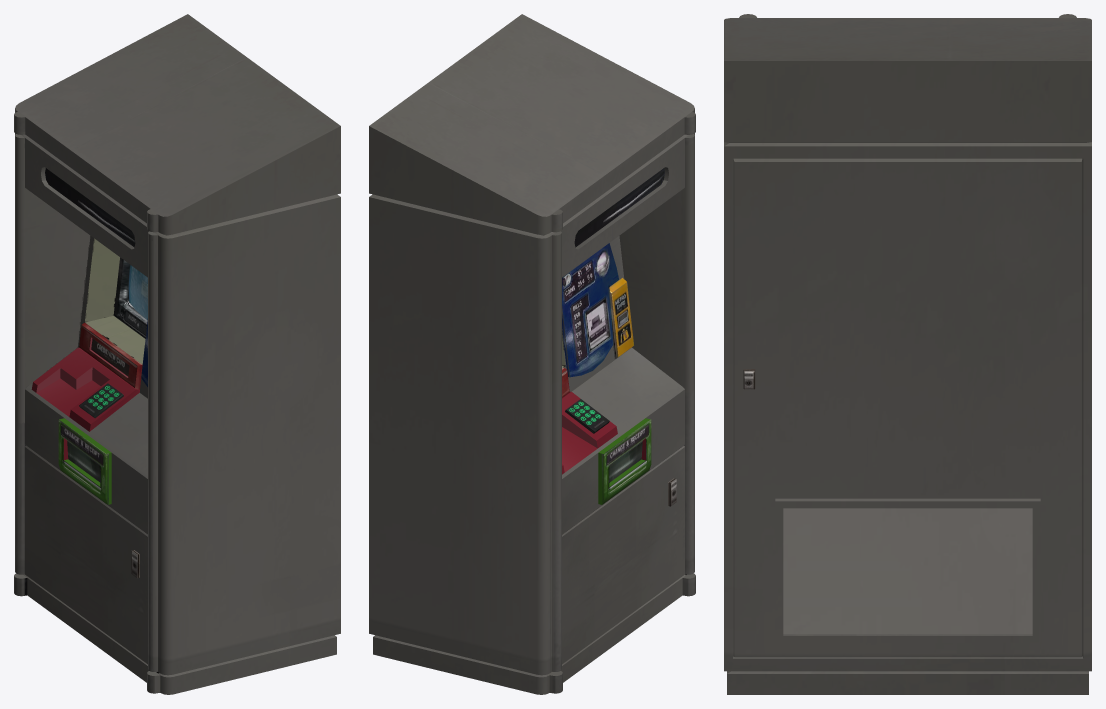
File: TicketMachine02b.FBX
3 views of the same model, side by side, from view 1: azimuth 30°, elevation 25°; view 2: azimuth 150°, elevation 25°; view 3: azimuth 270°, elevation 25° (orthographic). The views are drawn at different scales.
Visible parts, largest first — view 1: TicketMachine02b; view 2: TicketMachine02b; view 3: TicketMachine02b.
Boxes of the visible parts, x1,y1,x2,y2 form: TicketMachine02b: (14,14,340,694); TicketMachine02b: (369,14,695,694); TicketMachine02b: (724,14,1091,694).
Size of the model in its own units: 967 by 2589 by 1358.
